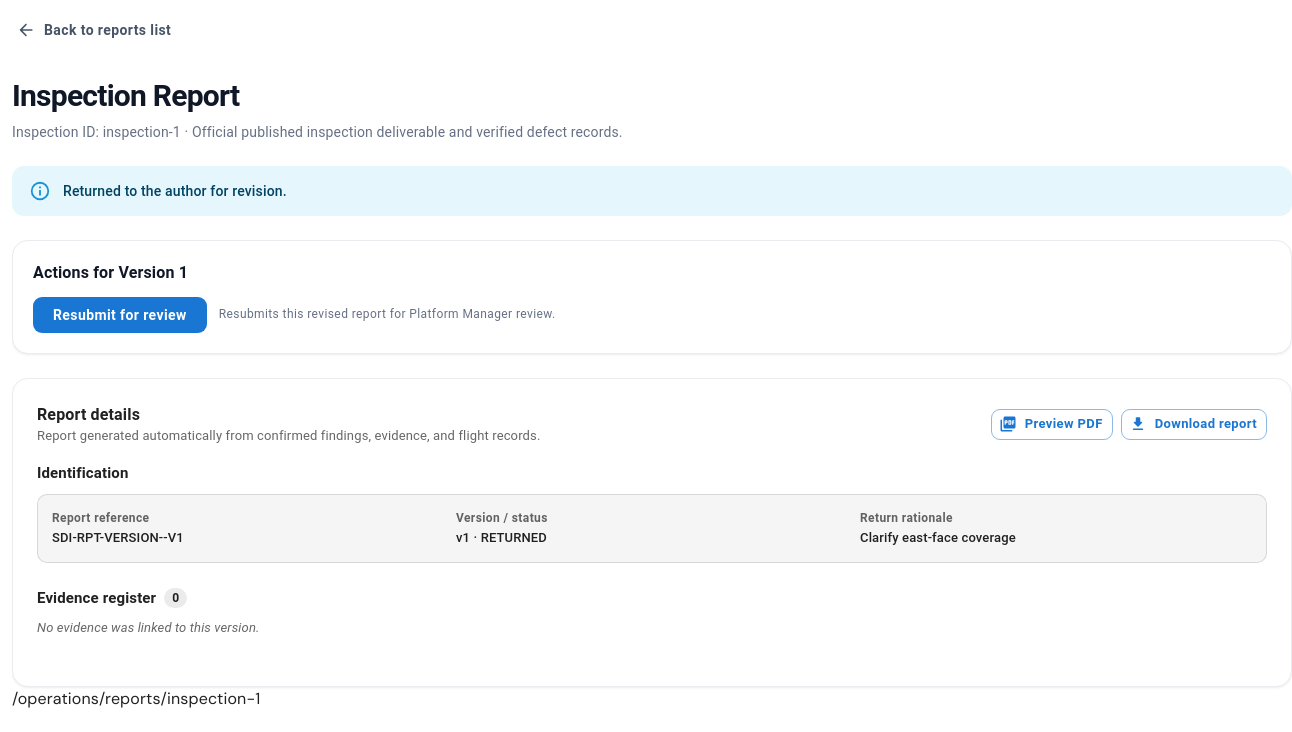
Test: ReportDetailPage MF3 gates › shows the server stale-snapshot refusal when submit fails
The width and height of the screenshot is (1292, 732).
Step 1. Click the button "Resubmit for review" → (120, 315), box [33,296,207,333]
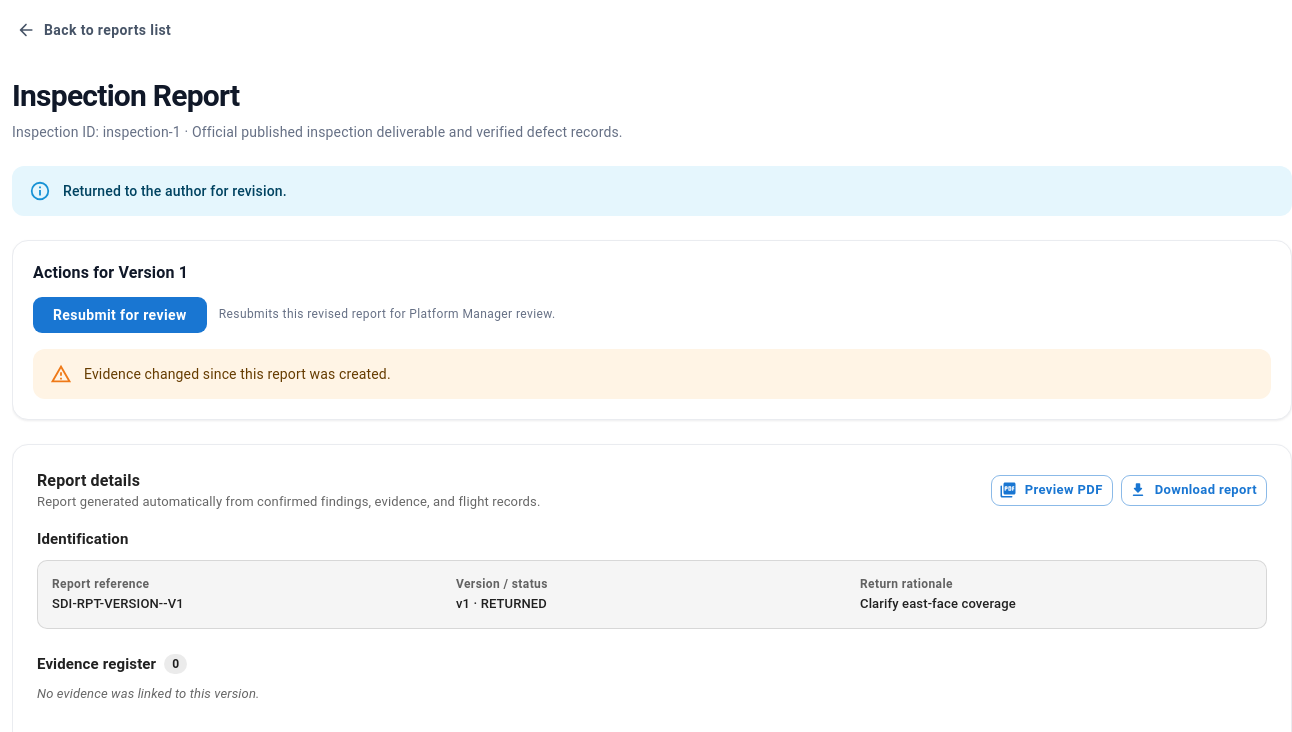
Expected: the message with test id "report-submit-refusal" reads "Evidence changed since this report was created.", [84,366,391,382]
